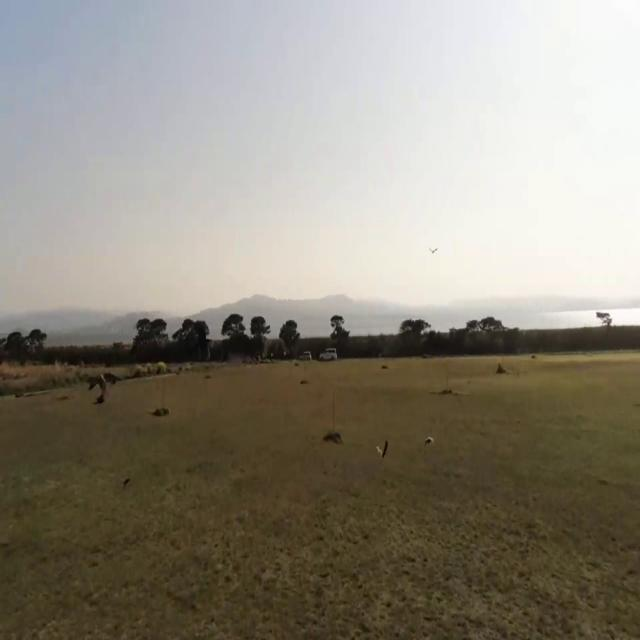bird: (378, 428, 389, 465), (429, 241, 438, 260)
